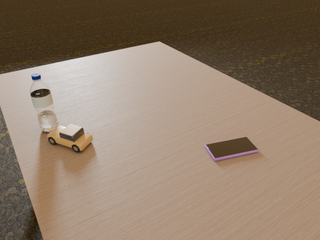bottle: (30, 73, 59, 132)
phone: (205, 137, 258, 161)
toy_car: (47, 124, 93, 153)
